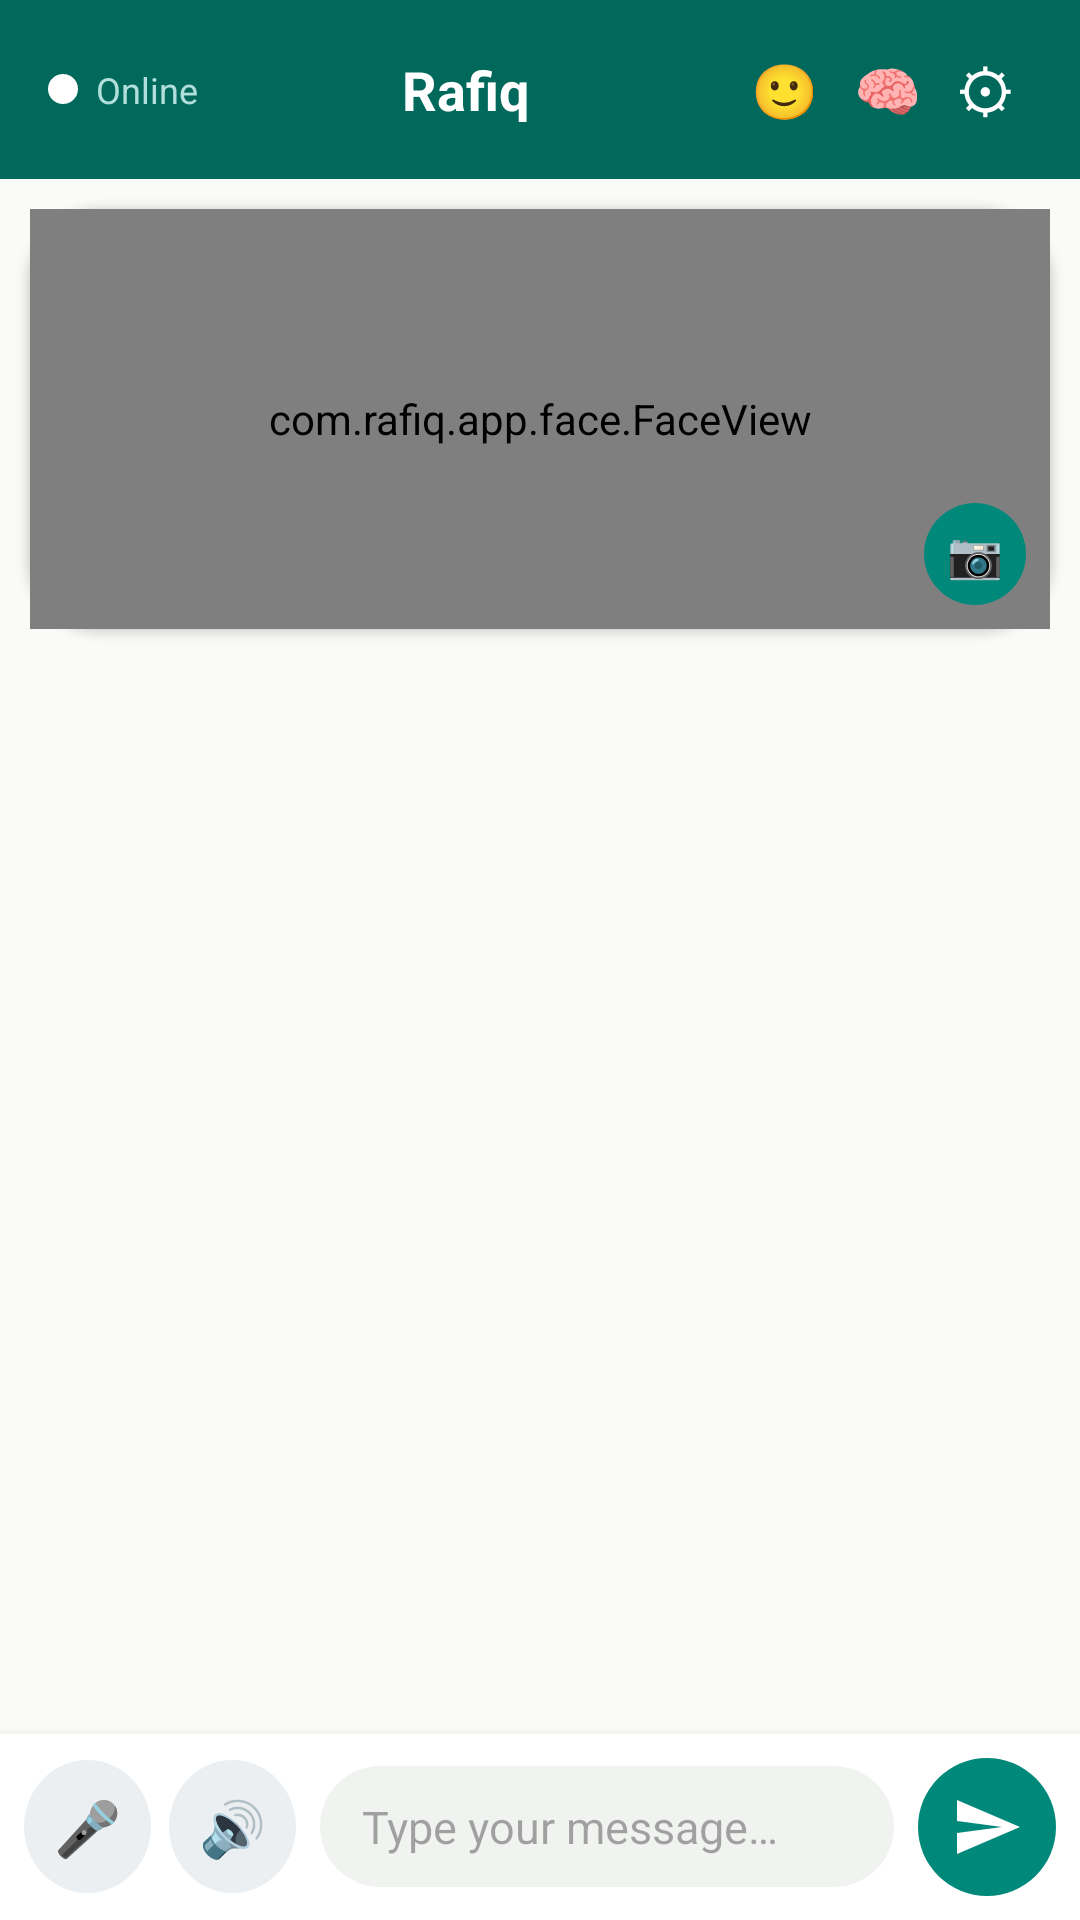

Icons on this 1080px x 1920px Android screen, each with its box as bbox=[x1, y1, x2, y2]:
Send: bbox=[918, 1758, 1056, 1896]
